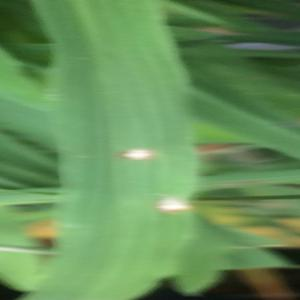Rice_Blast: (146, 191, 206, 233), (113, 129, 162, 171)
